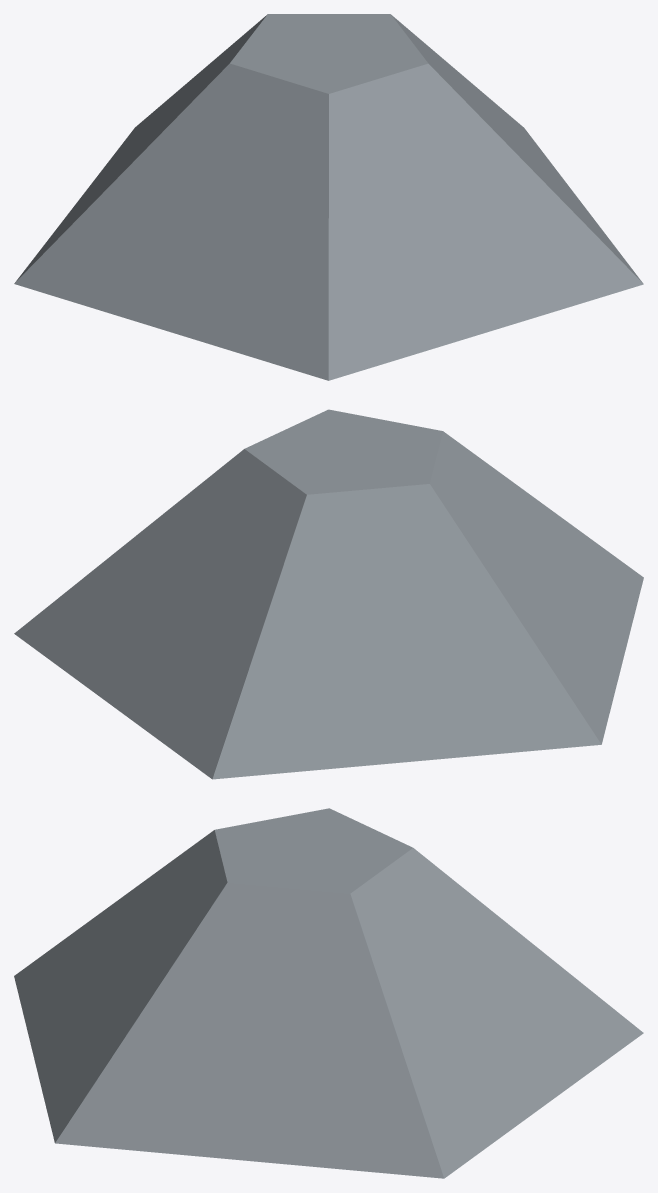
The model's file is Rock_Round_s_05 2.fbx.
The picture shows the model from 3 angles, top to bottom: view 1: azimuth 30°, elevation 25°; view 2: azimuth 150°, elevation 25°; view 3: azimuth 270°, elevation 25°; orthographic projection. The views are drawn at different scales.
Visible parts, largest first — view 1: Rock_Round_s_05; view 2: Rock_Round_s_05; view 3: Rock_Round_s_05.
Part boxes in pixels (box(x1,y1,x2,y2)): Rock_Round_s_05: box(14, 14, 643, 380); Rock_Round_s_05: box(14, 409, 643, 779); Rock_Round_s_05: box(14, 808, 643, 1178).
Size of the model in its own units: 16.43 by 5.53 by 16.15.
